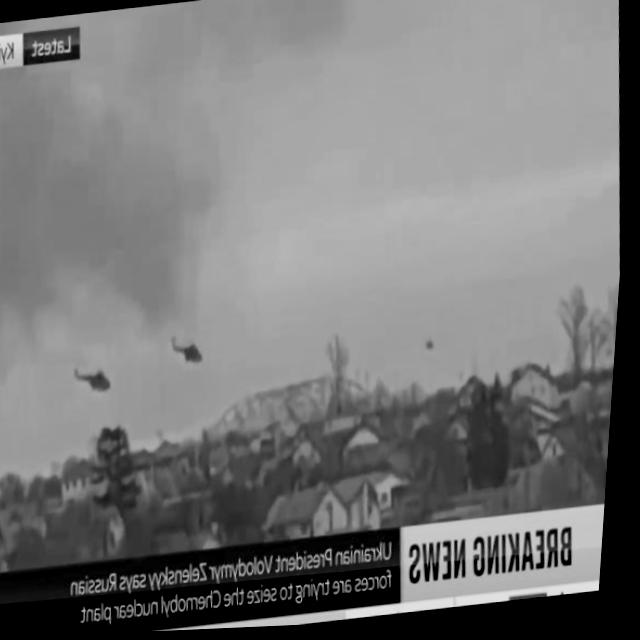helikopter: (63, 343, 136, 430), (162, 312, 220, 387)
